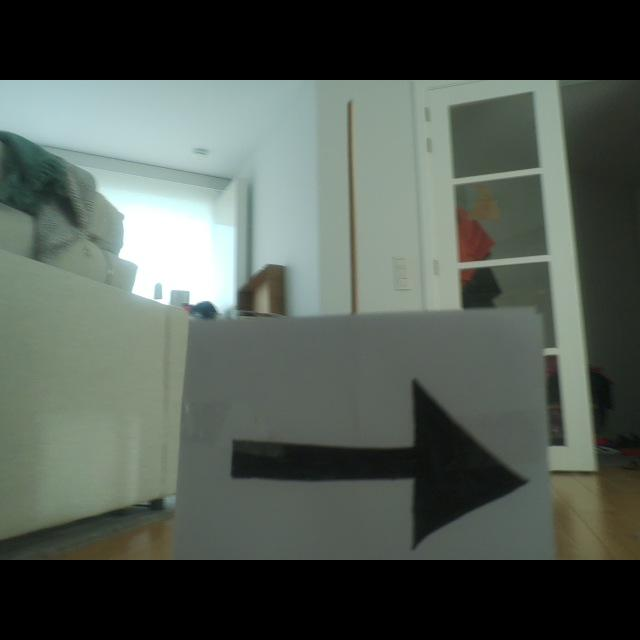jobbra_nyil: (232, 379, 526, 548)
